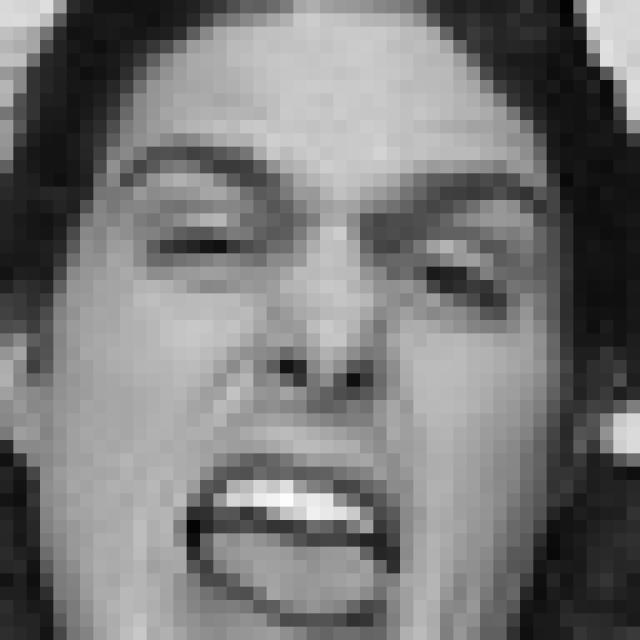disgust: (118, 138, 547, 640)
